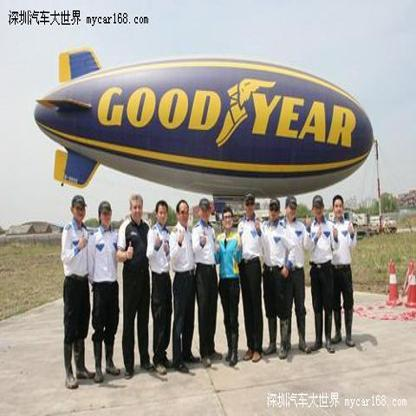Airship: (32, 50, 373, 195)
